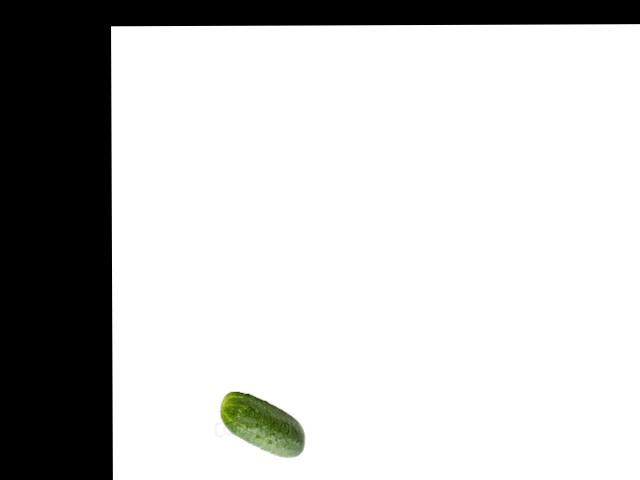cucumber: (220, 392, 305, 458)
